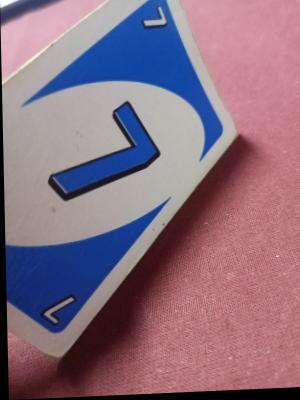blue: (4, 94, 98, 319)
num_7: (29, 291, 85, 326), (130, 4, 180, 40)
